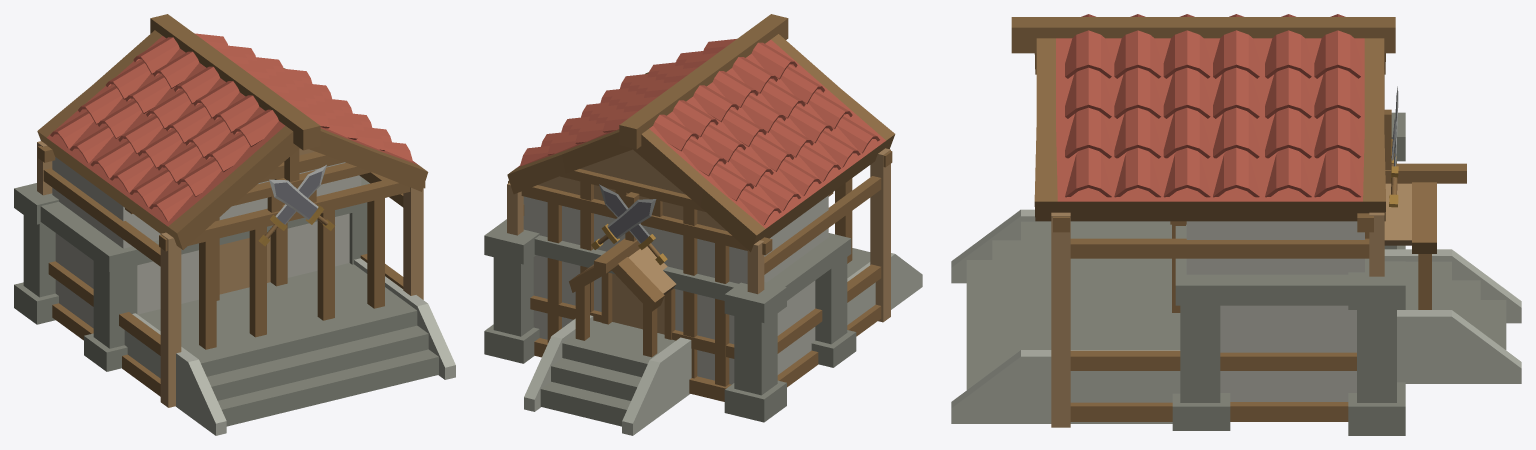
Rendered from Barracks_SecondAge_Level1.glb.
The picture shows the model from 3 angles, left to right: view 1: azimuth 30°, elevation 25°; view 2: azimuth 150°, elevation 25°; view 3: azimuth 270°, elevation 25°; orthographic projection. The views are drawn at different scales.
Visible parts, largest first — view 1: Barracks_SecondAge_Level1; view 2: Barracks_SecondAge_Level1; view 3: Barracks_SecondAge_Level1.
Boxes of the visible parts, x1,y1,x2,y2 form: Barracks_SecondAge_Level1: (14, 14, 455, 435); Barracks_SecondAge_Level1: (484, 14, 922, 435); Barracks_SecondAge_Level1: (951, 14, 1521, 435).
Bounding box in the file's own units: 1.01 × 0.8931 × 1.41.
Materials: 1 (1 with a texture image).
